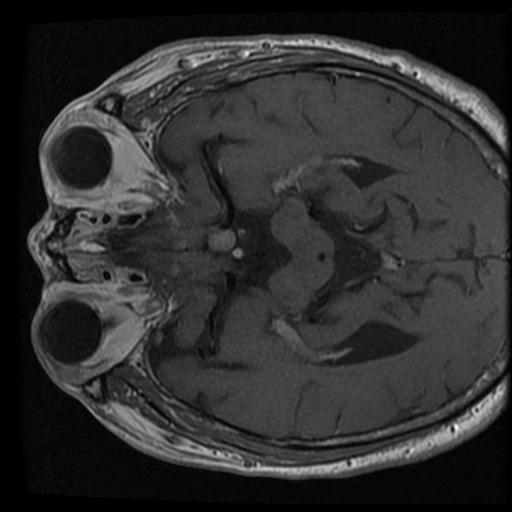pituitary tumour: (208, 229, 236, 252)
